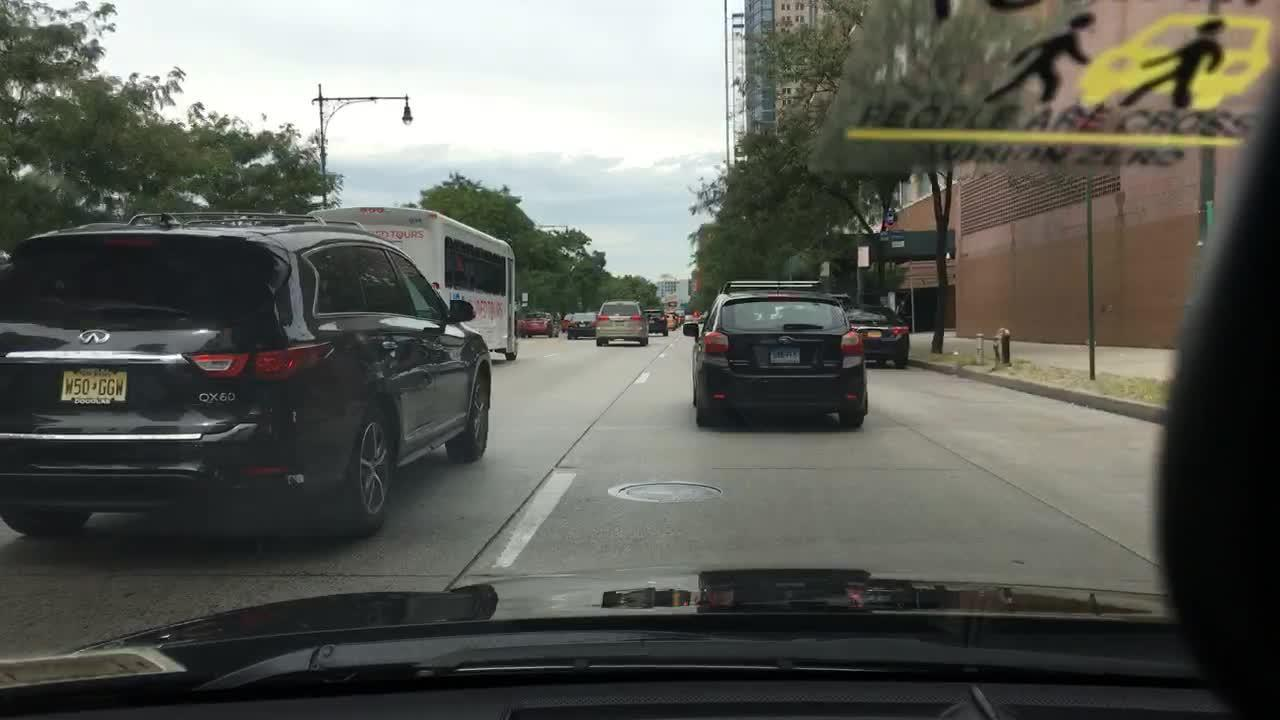Infiniti: (75, 324, 113, 348)
